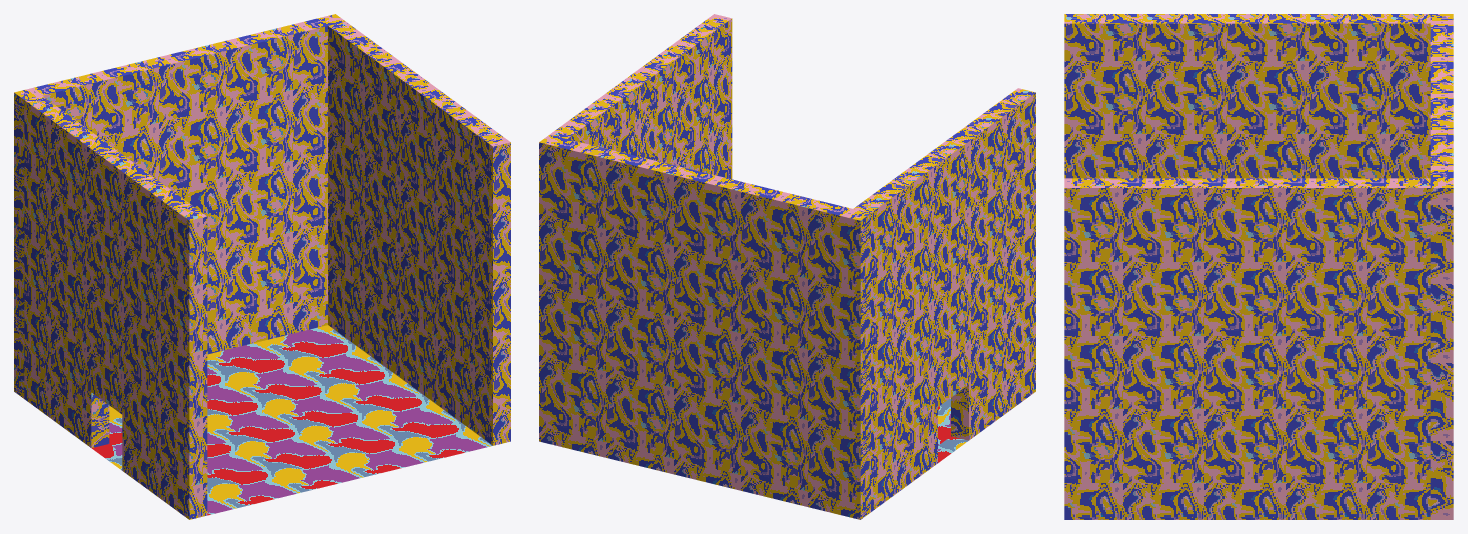
File: room2.fbx
The picture shows the model from 3 angles, left to right: view 1: azimuth 30°, elevation 25°; view 2: azimuth 150°, elevation 25°; view 3: azimuth 270°, elevation 25°; orthographic projection. The views are drawn at different scales.
Parts seen in each view (by area): view 1: Cube, Cube.002, Cube.001, Plane; view 2: Cube.001, Cube.002, Cube, Plane; view 3: Cube, Cube.002, Cube.001.
Part boxes in pixels (left/top/right/bottom): Cube: left=328, top=21, right=510, bottom=445; Cube.002: left=24, top=95, right=207, bottom=519; Cube.001: left=14, top=14, right=345, bottom=398; Plane: left=91, top=325, right=492, bottom=515; Cube.001: left=539, top=135, right=870, bottom=519; Cube.002: left=853, top=88, right=1035, bottom=511; Cube: left=549, top=14, right=732, bottom=179; Plane: left=938, top=398, right=968, bottom=462; Cube: left=1064, top=178, right=1430, bottom=519; Cube.002: left=1064, top=14, right=1430, bottom=178; Cube.001: left=1430, top=14, right=1453, bottom=519.
Bounding box in the file's own units: 1800 × 1600 × 1700.
Materials: 2 (2 with a texture image).
